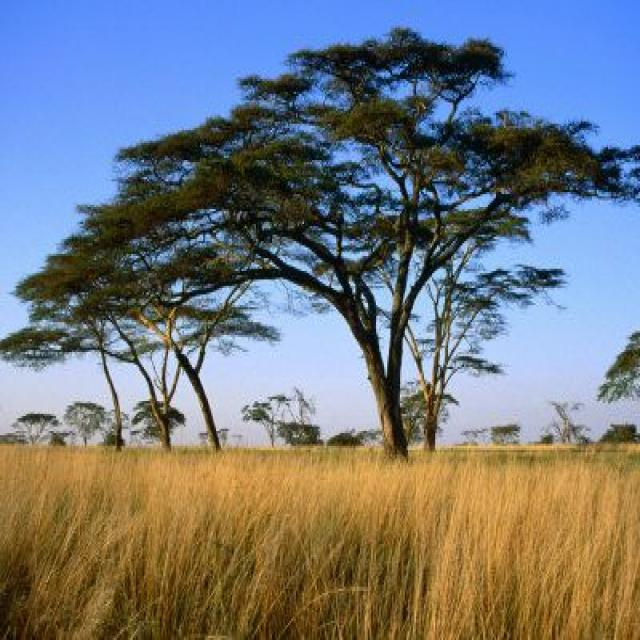Acacia: (20, 38, 580, 440)
